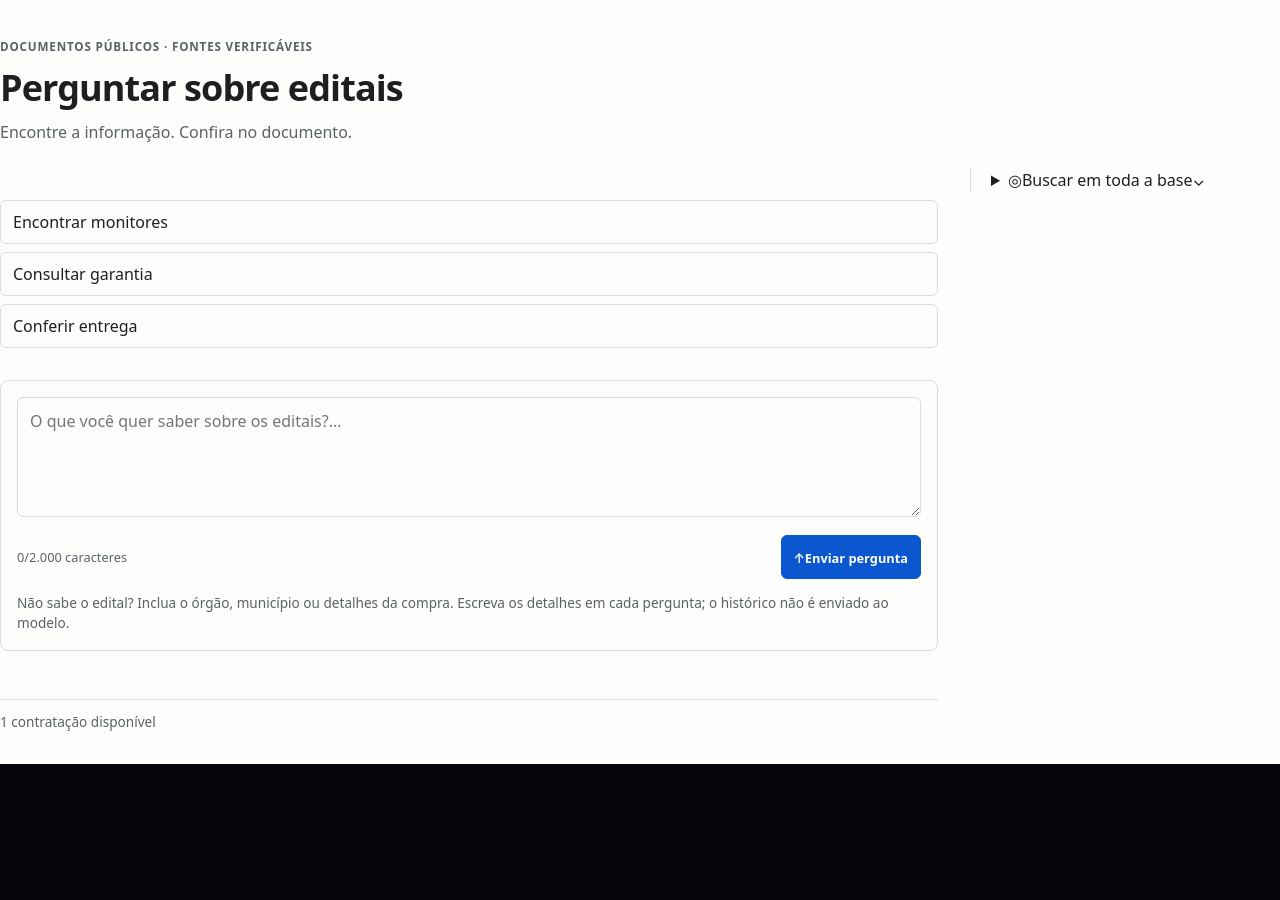
Scenario: candidato preenche seleção e pergunta sem enviar automaticamente
This screenshot has width=1280, height=900.
Check: the text "1 contratação disponível" is shown, box 0,712 -> 156,731
Type "Qual garantia?" into the text box named "Sua pergunta".
click(469, 457); type("Qual garantia?")  # box 17,397 -> 921,517
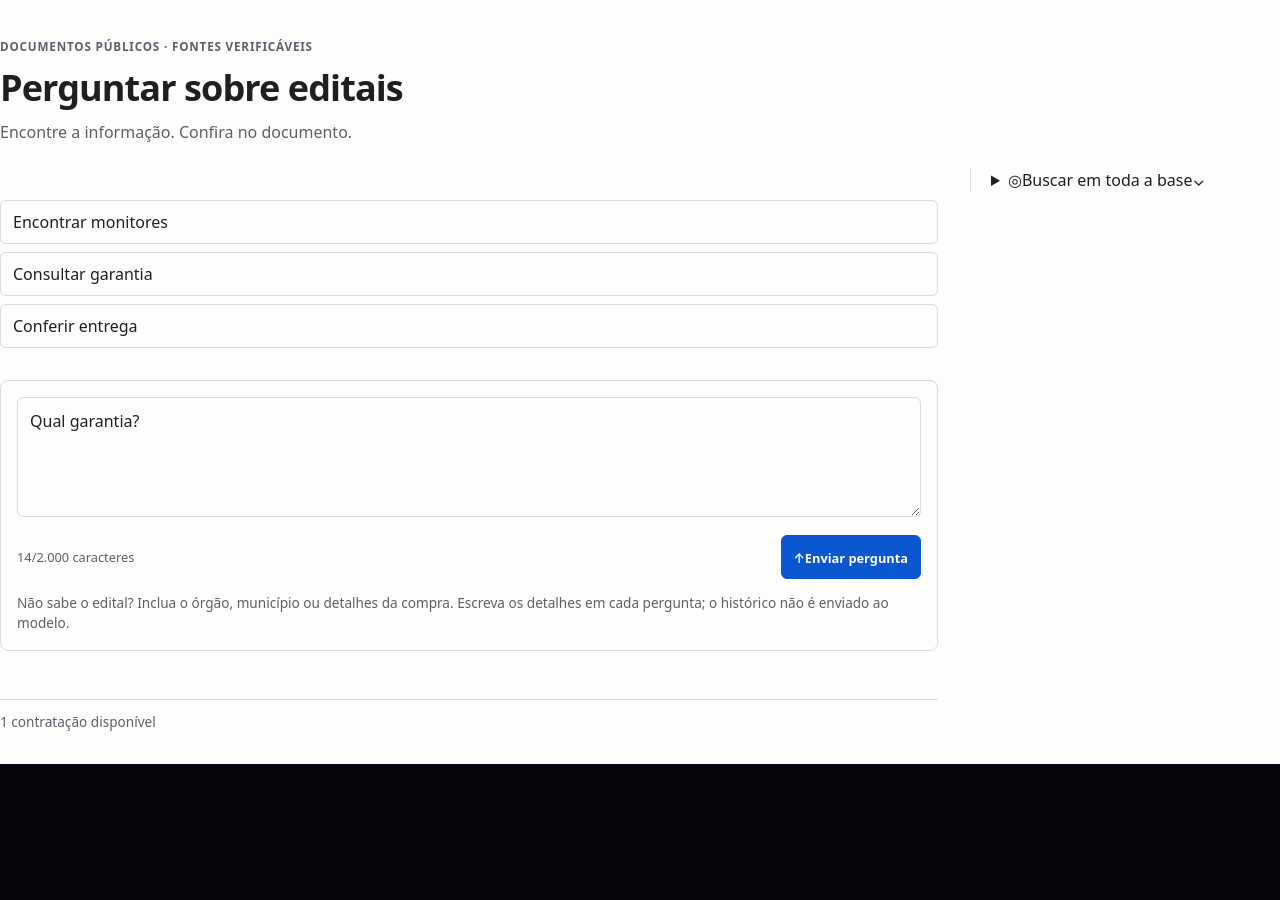
Click the button "↑Enviar pergunta".
click(851, 557)  # box 780,535 -> 921,579
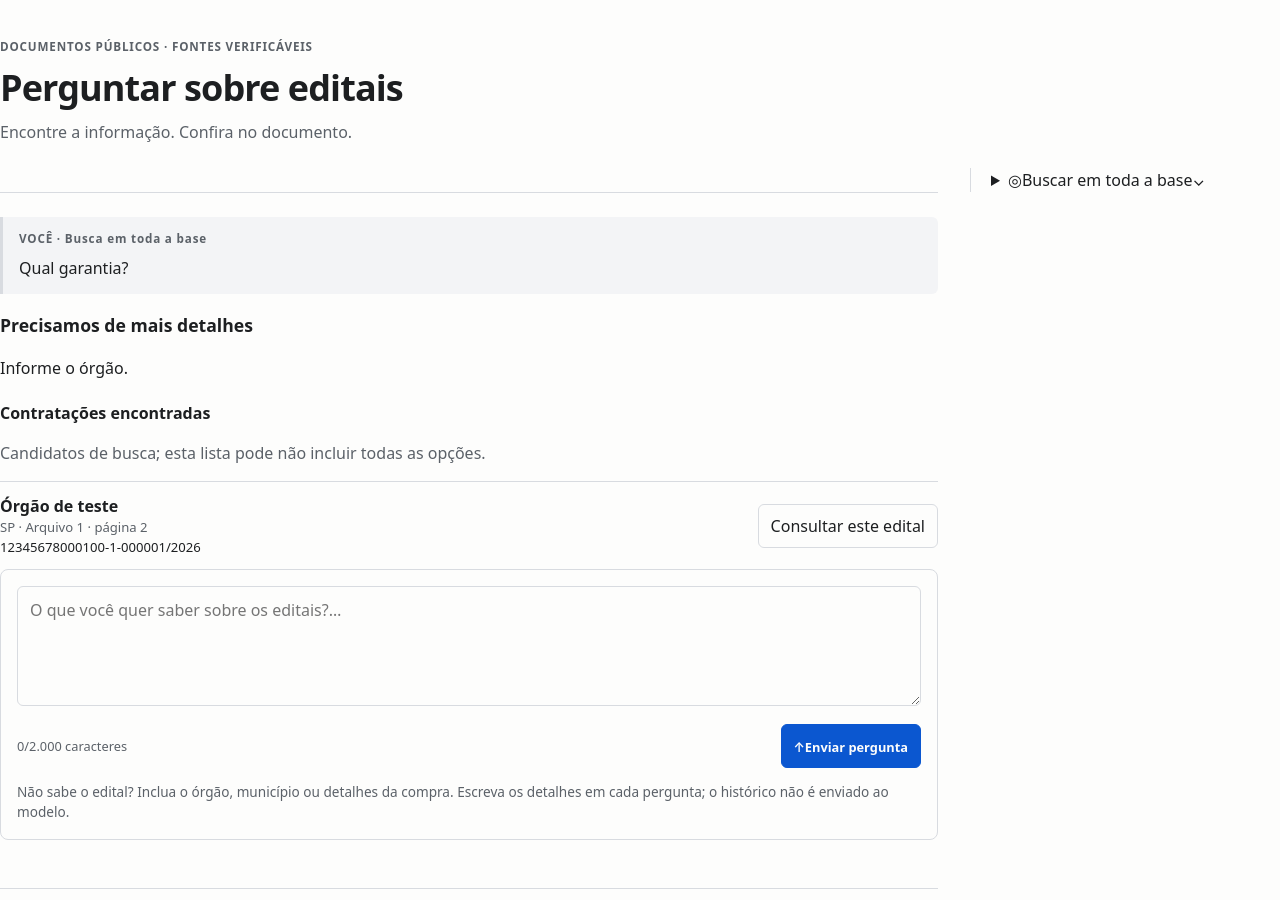
Check: the heading "Precisamos de mais detalhes" is shown, box 0,313 -> 253,337
Click the button "Consultar este edital".
click(848, 526)  # box 758,504 -> 938,548
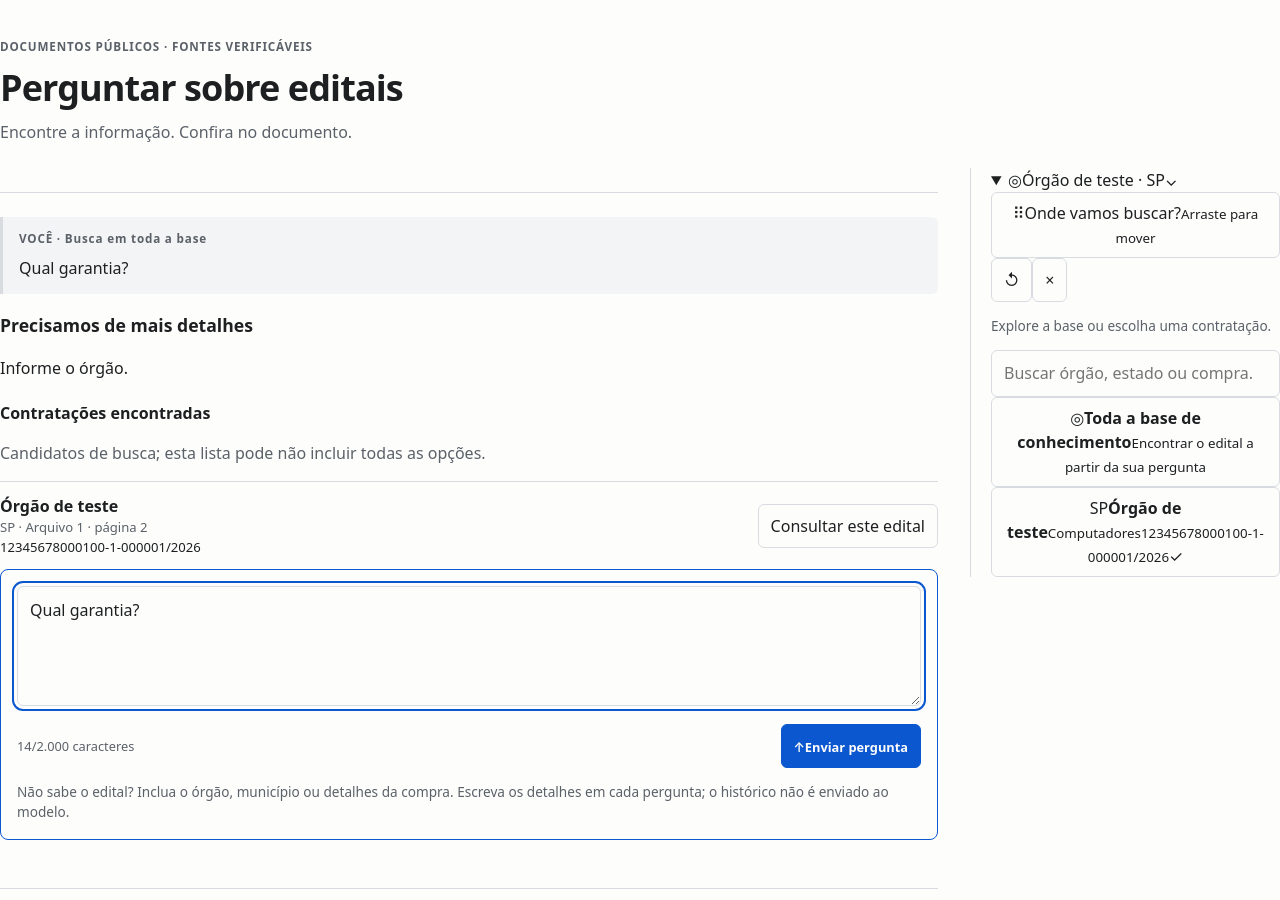
Click the button "↑Enviar pergunta".
click(851, 746)  # box 780,724 -> 921,768
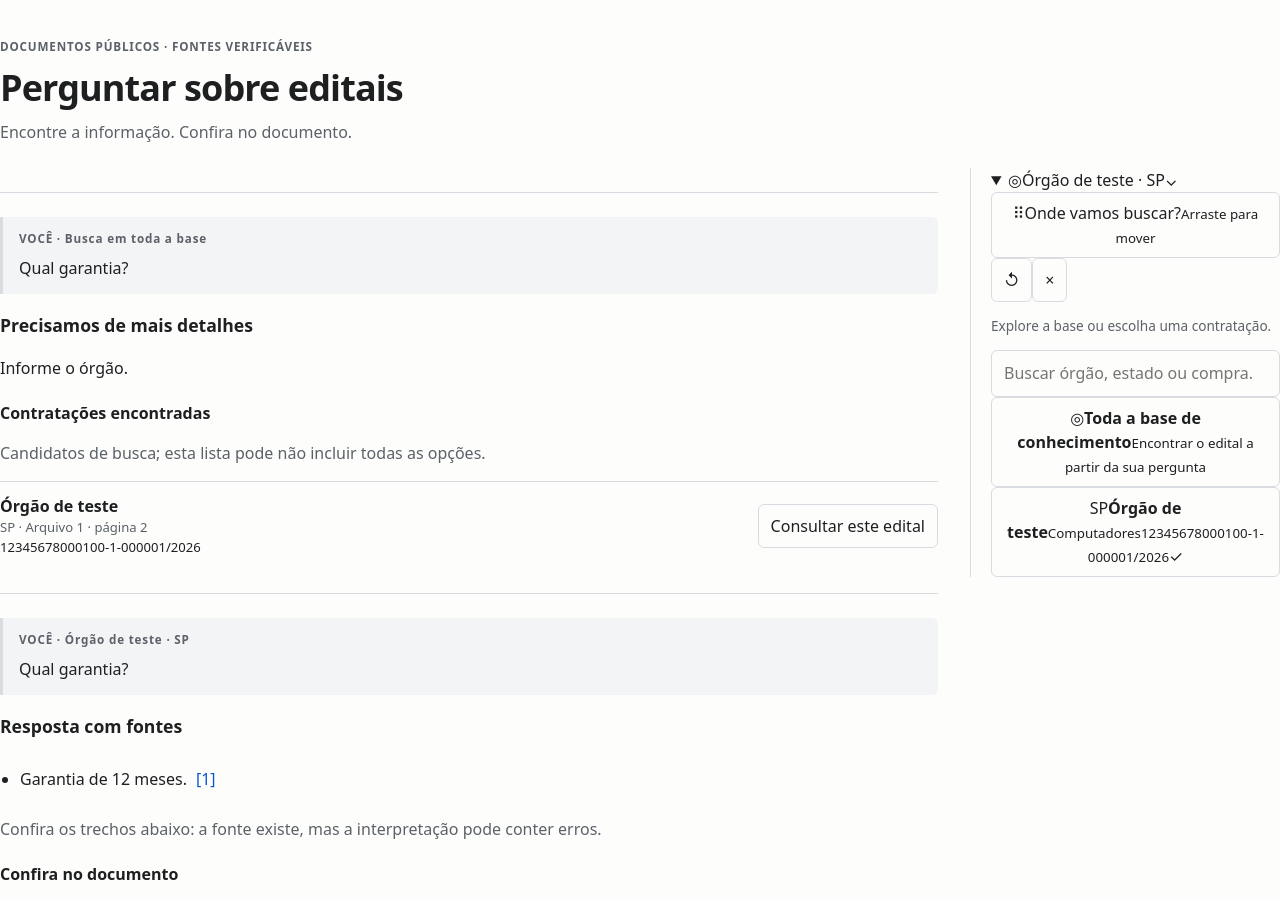
Check: the heading "Resposta com fontes" is shown, box 0,714 -> 182,738
